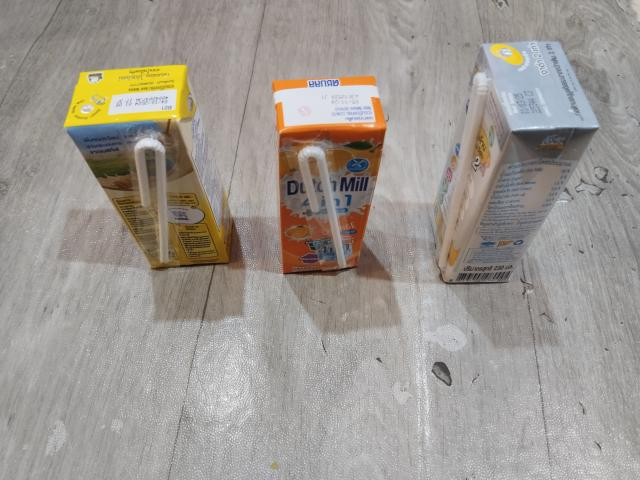drink_box: (422, 33, 606, 298), (59, 54, 247, 280), (268, 70, 391, 280)
